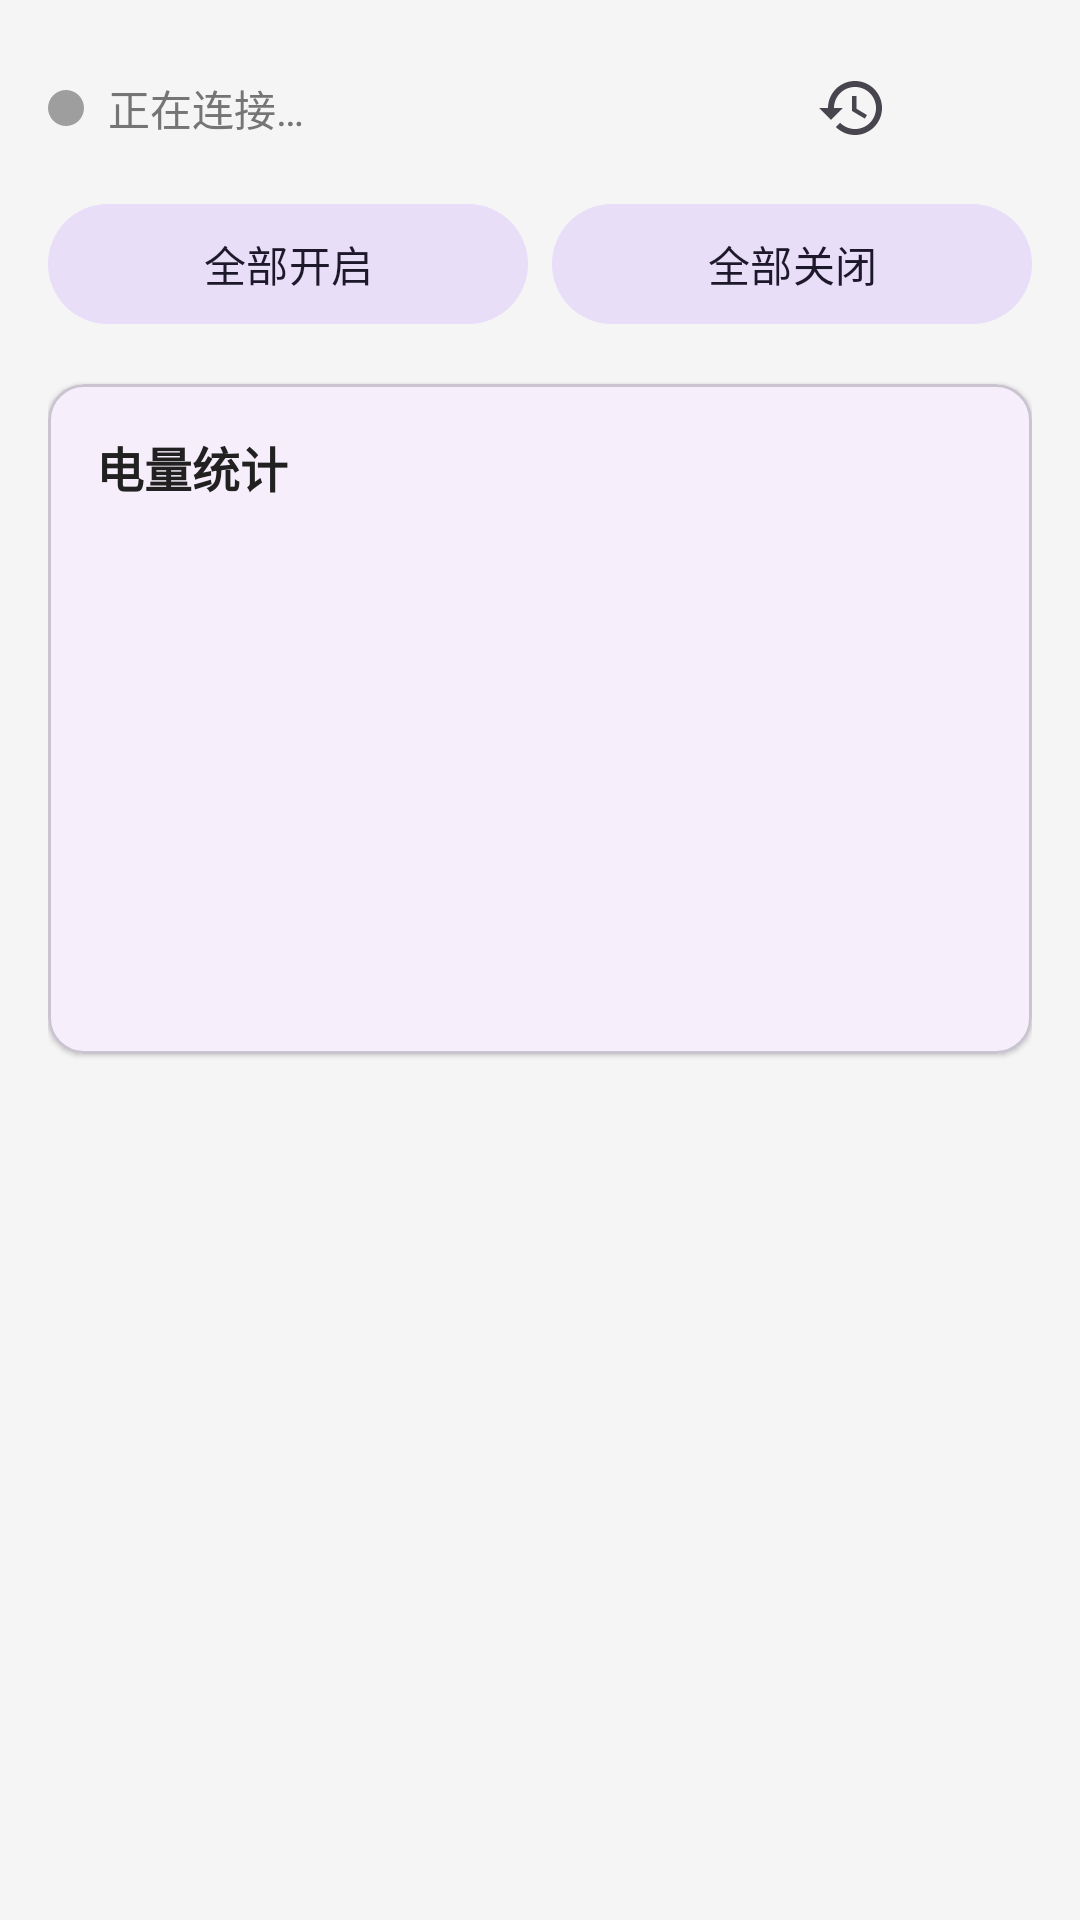

Where icons sit on this 1080 x 1920 app screen, as {"x1": x1, "y1": y1, "x2": x2, "y2": y2}:
操作记录: {"x1": 819, "y1": 81, "x2": 882, "y2": 135}
